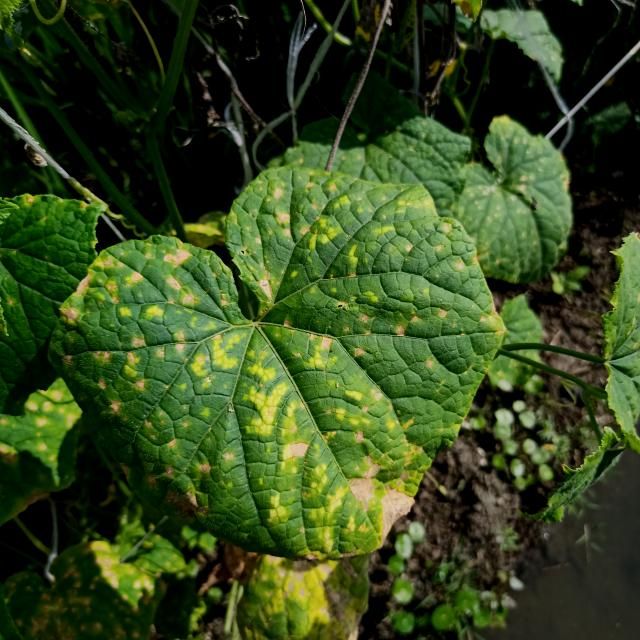disease_cucumber: (67, 182, 474, 556)
